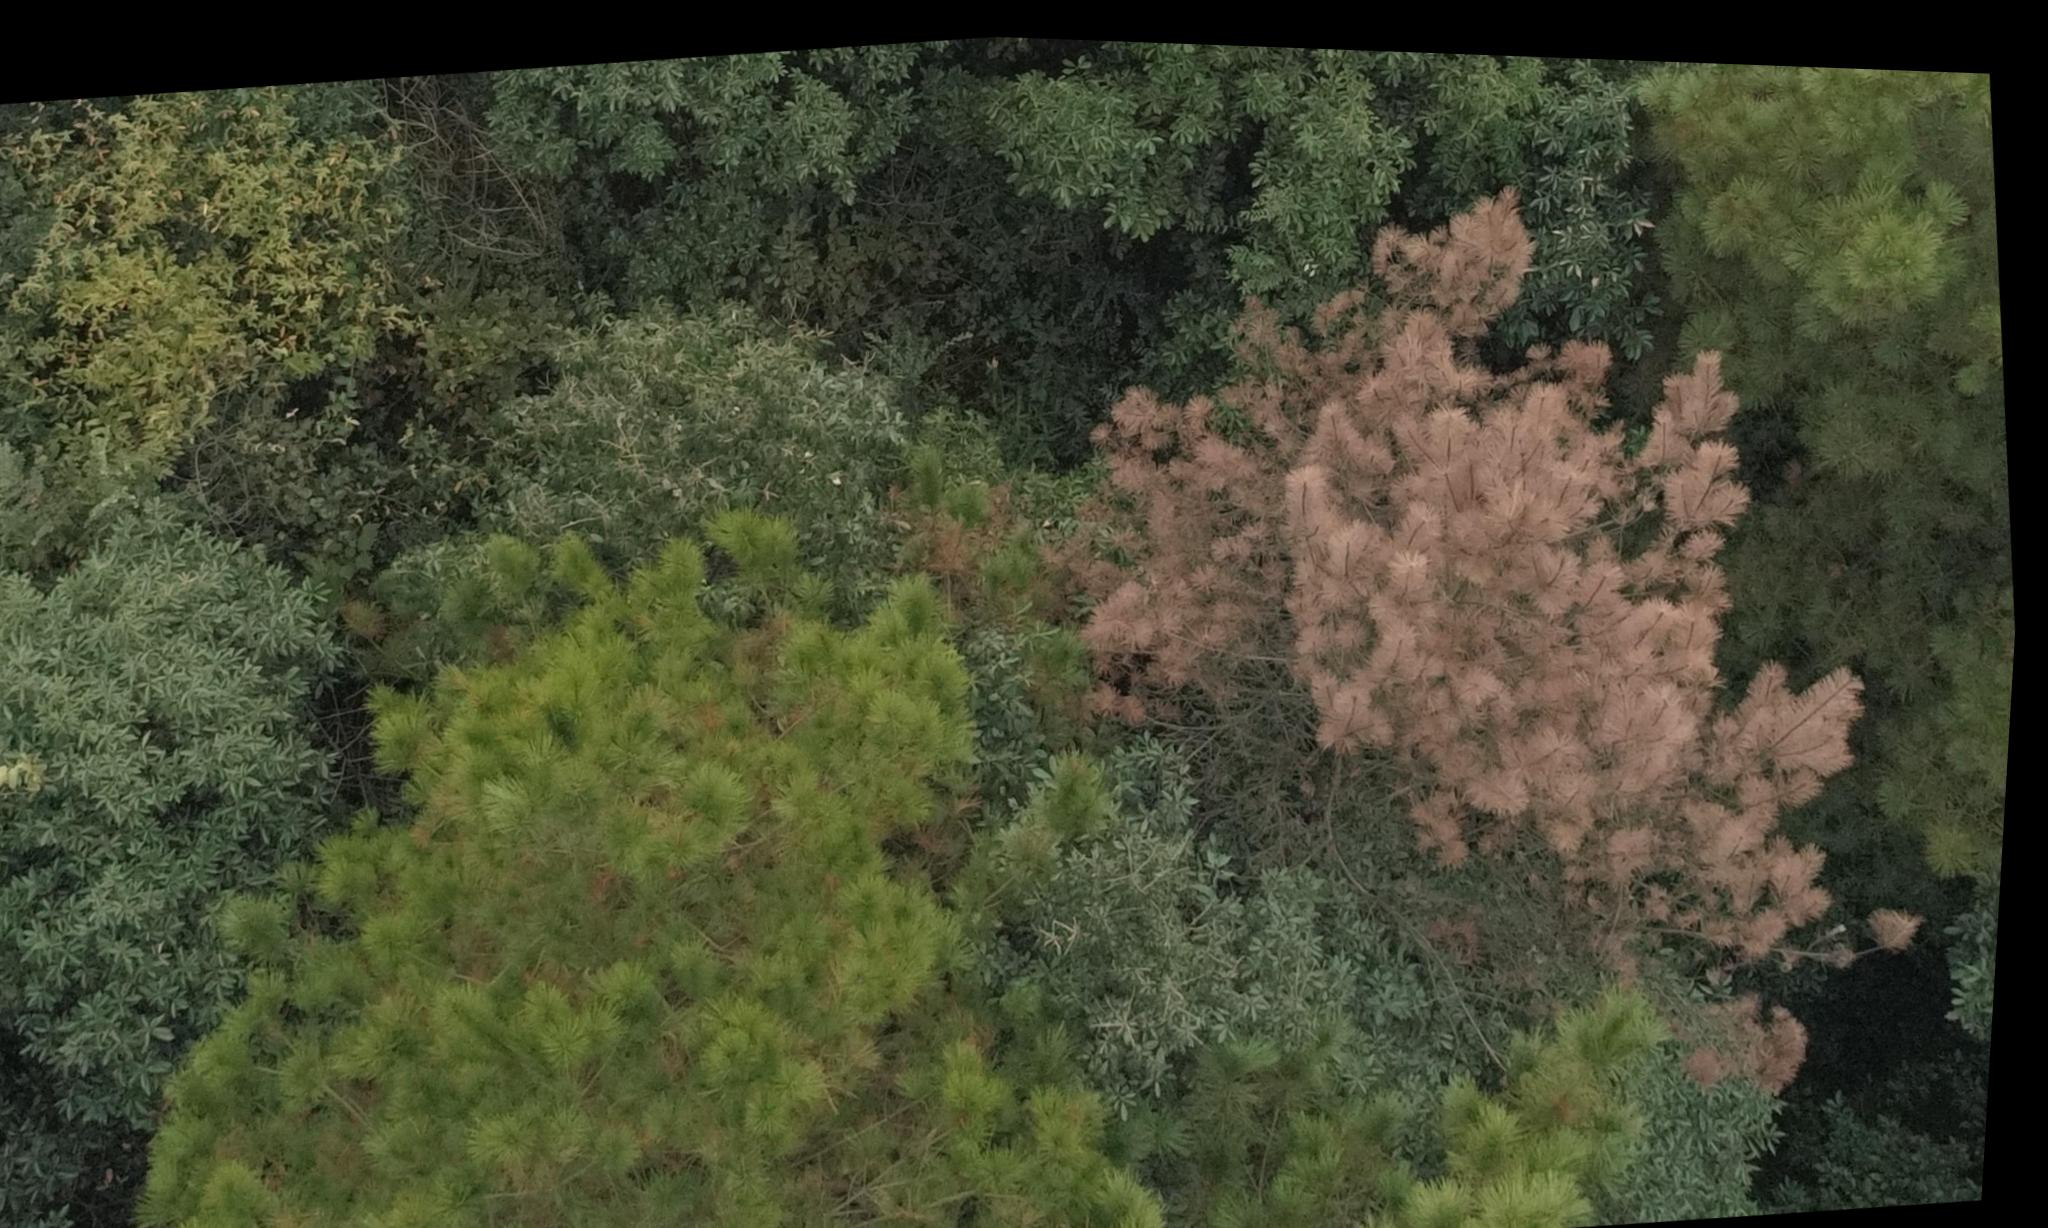heavy: (884, 108, 1987, 1177)
light: (146, 575, 953, 1228)
